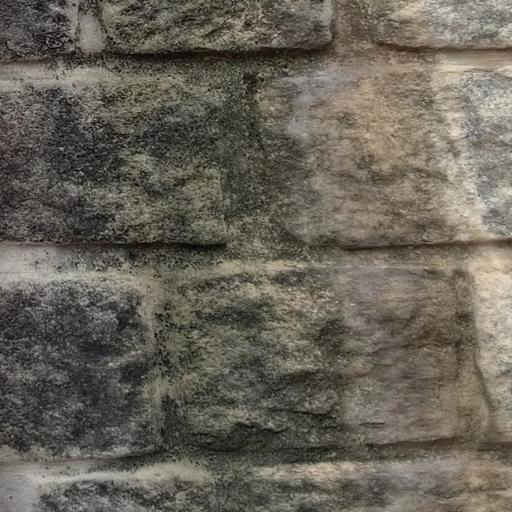algae: (0, 0, 416, 511)
